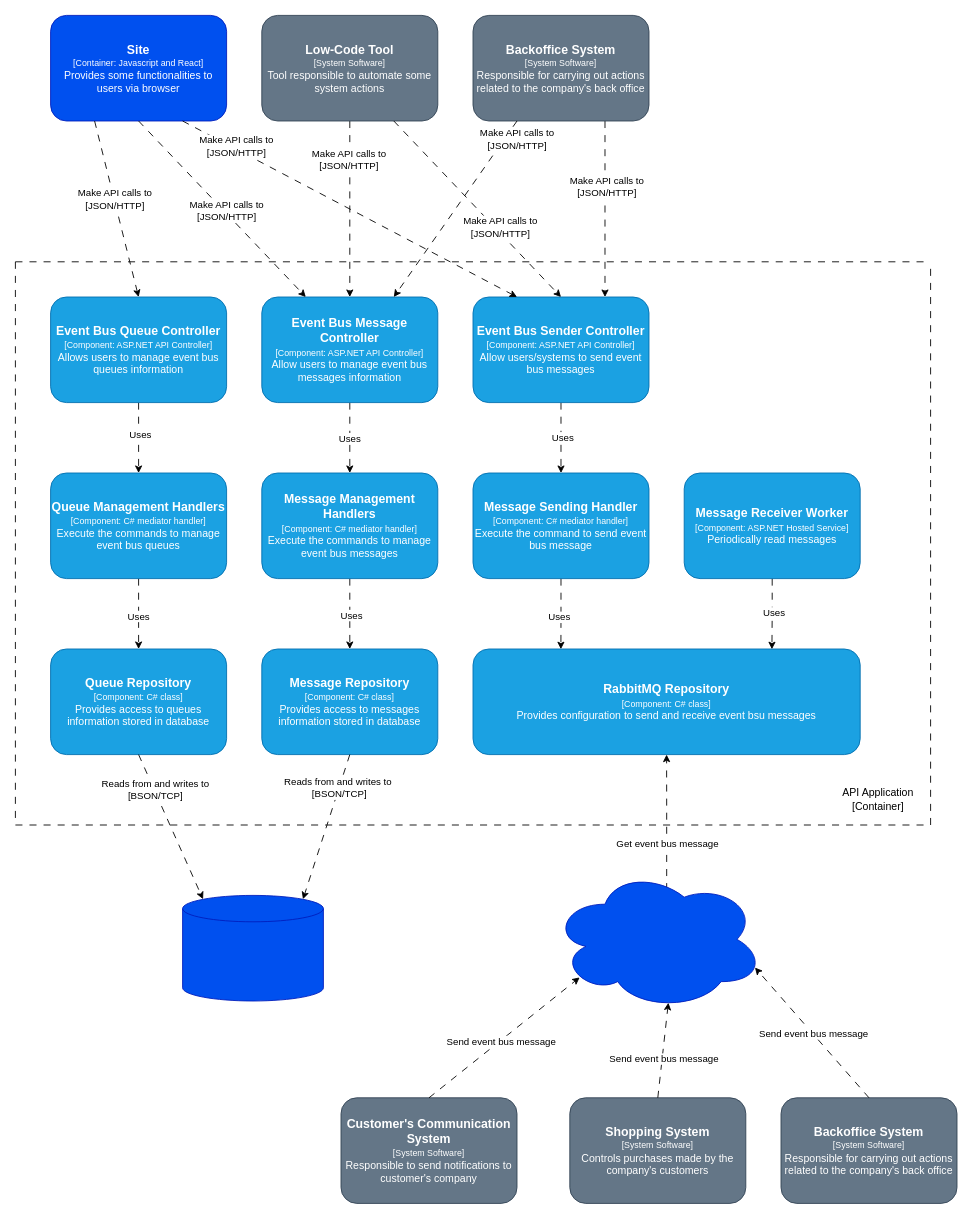
Image size: 972x1219. Some labels were removed from this diagram. Each missing label, with the centre of its shape:
Database [Container: MongoDB] Stores every message received from event bus: point (252, 948)
Event Bus [Container: RabbitMQ] Provides the communication between all systems: point (657, 939)
